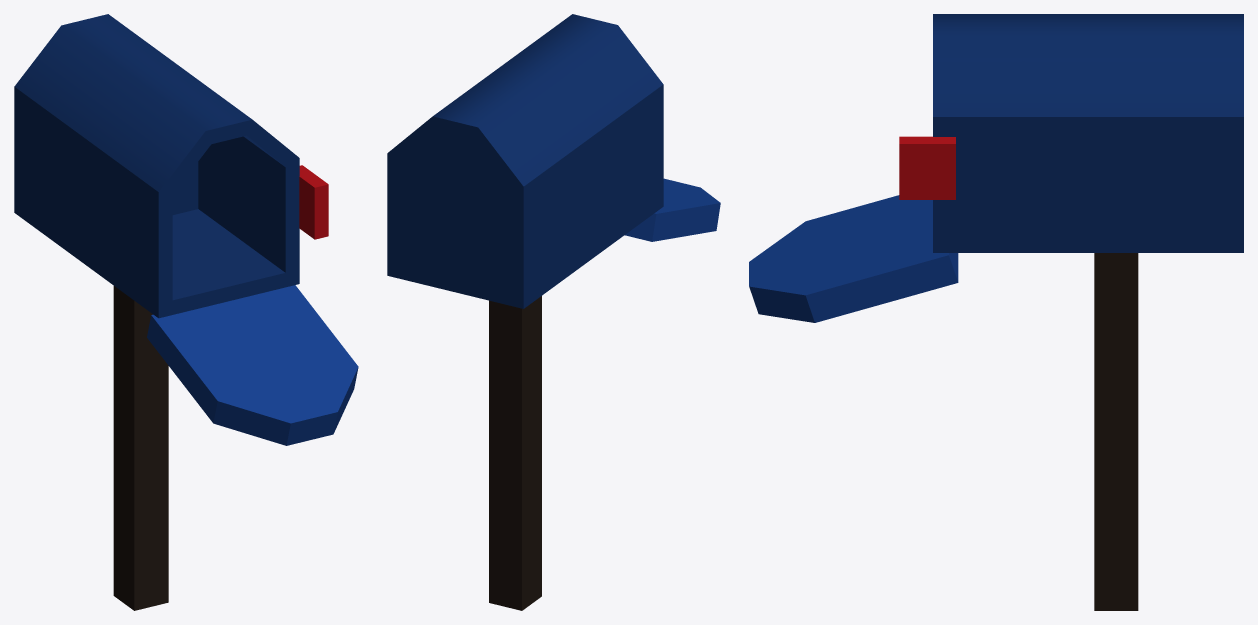
The model's file is MailBox_1.FBX.
The picture shows the model from 3 angles, left to right: view 1: azimuth 30°, elevation 25°; view 2: azimuth 150°, elevation 25°; view 3: azimuth 270°, elevation 25°; orthographic projection. The views are drawn at different scales.
Visible parts, largest first — view 1: MailBox001; view 2: MailBox001; view 3: MailBox001.
Boxes of the visible parts, x1=… form: MailBox001: x1=14, y1=14, x2=358, y2=610; MailBox001: x1=387, y1=14, x2=720, y2=610; MailBox001: x1=749, y1=14, x2=1243, y2=610.
Bounding box in the file's own units: 4.55 × 15.06 × 11.7.
